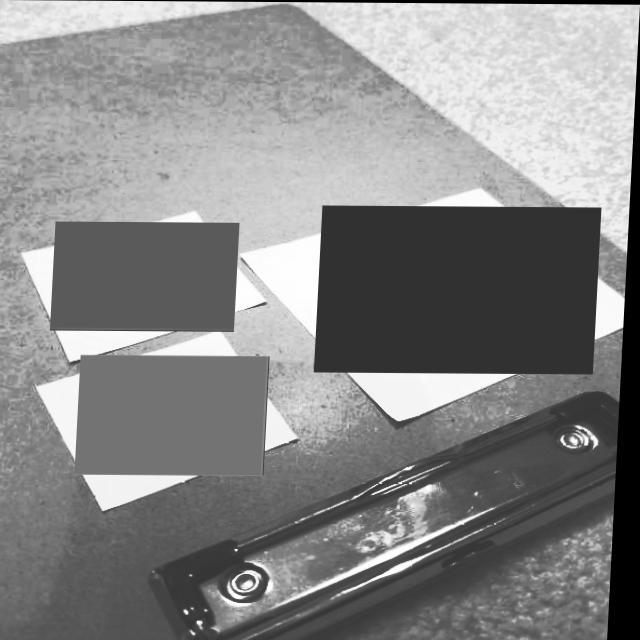qr_code: (318, 205, 604, 374), (80, 355, 273, 476), (54, 222, 242, 331)
